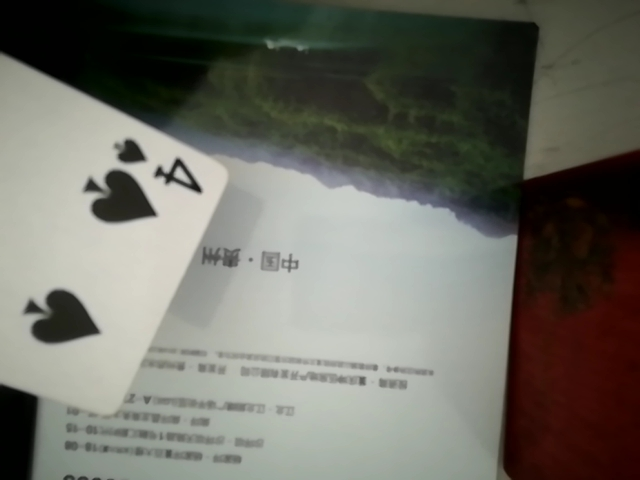ht 4: (0, 8, 243, 421)
